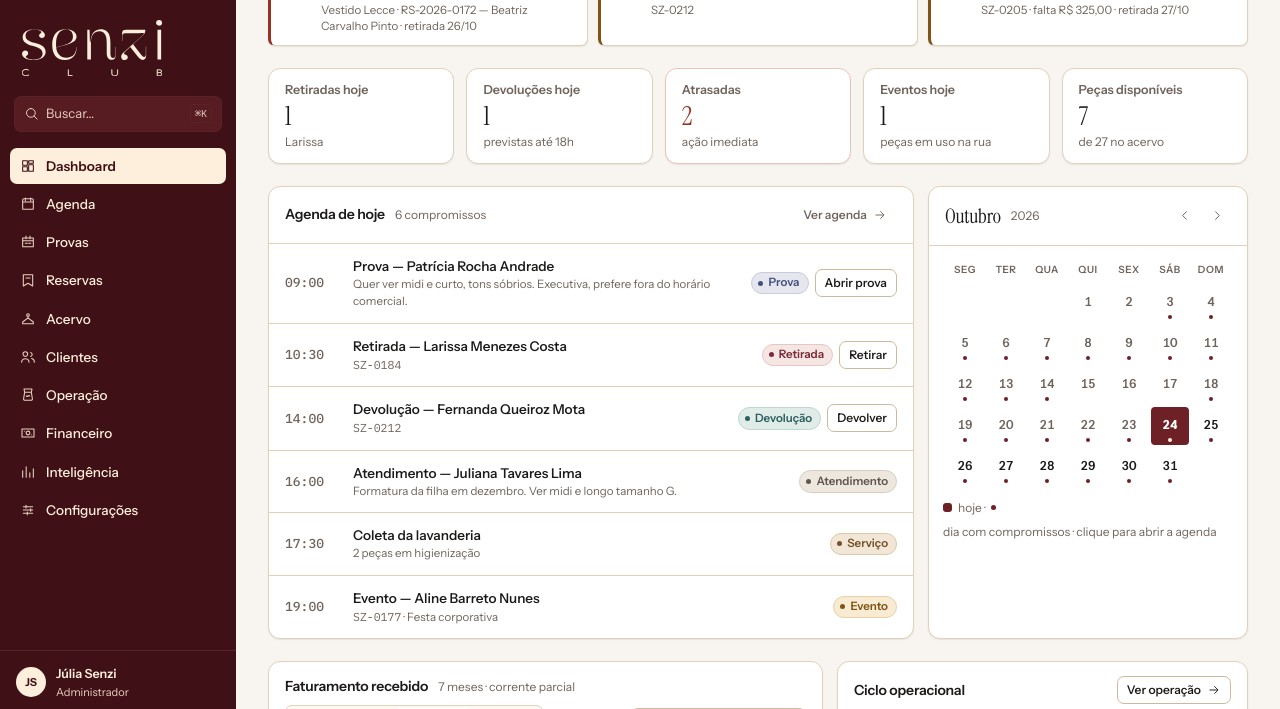
it: Dashboard — agenda de hoje e mini calendário › lista os 6 compromissos de hoje com Retirar, Devolver e Abrir prova
(page scrolled)
Expected: the text "6 compromissos" is shown, 395,206 -> 486,224
Expected: the link "Abrir prova" is shown, 814,269 -> 897,297
Click the button "Retirar". click: (868, 355)
box: 839,341 -> 897,369
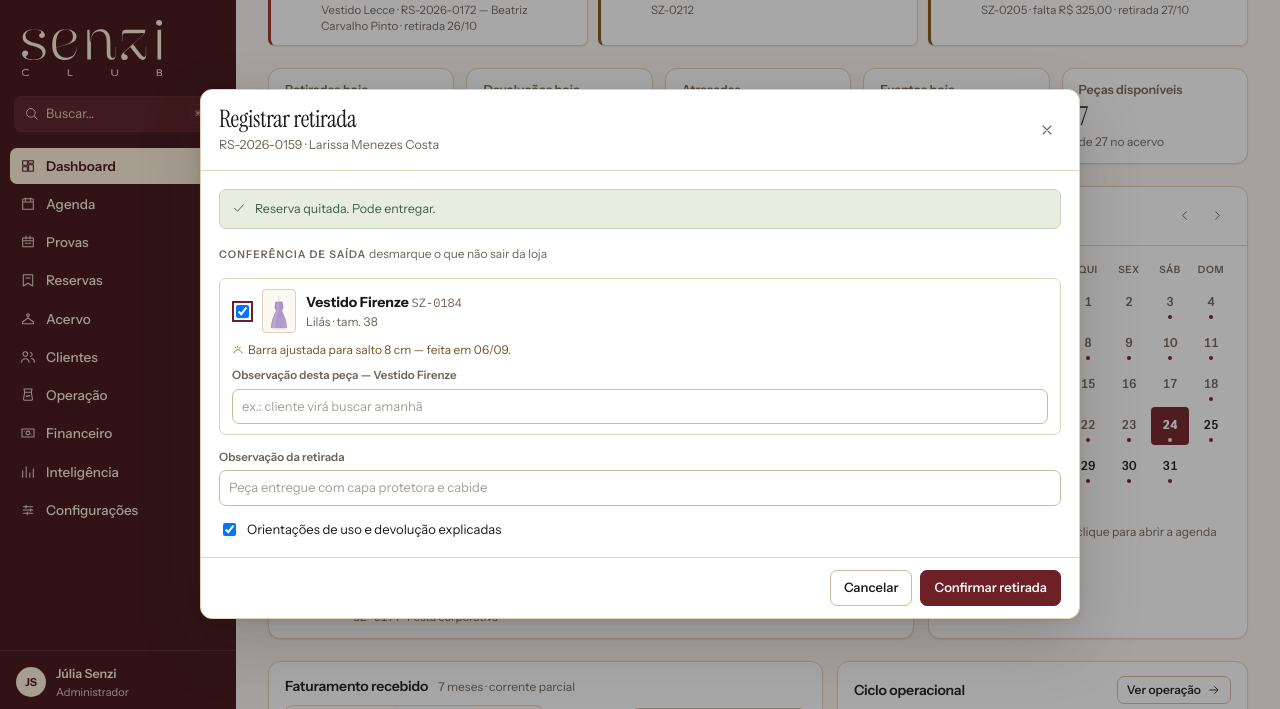
Expected: the dialog "Registrar retirada" is shown, 200,89 -> 1080,619
Click the button "Cancelar". click: (871, 588)
box: 830,570 -> 912,606
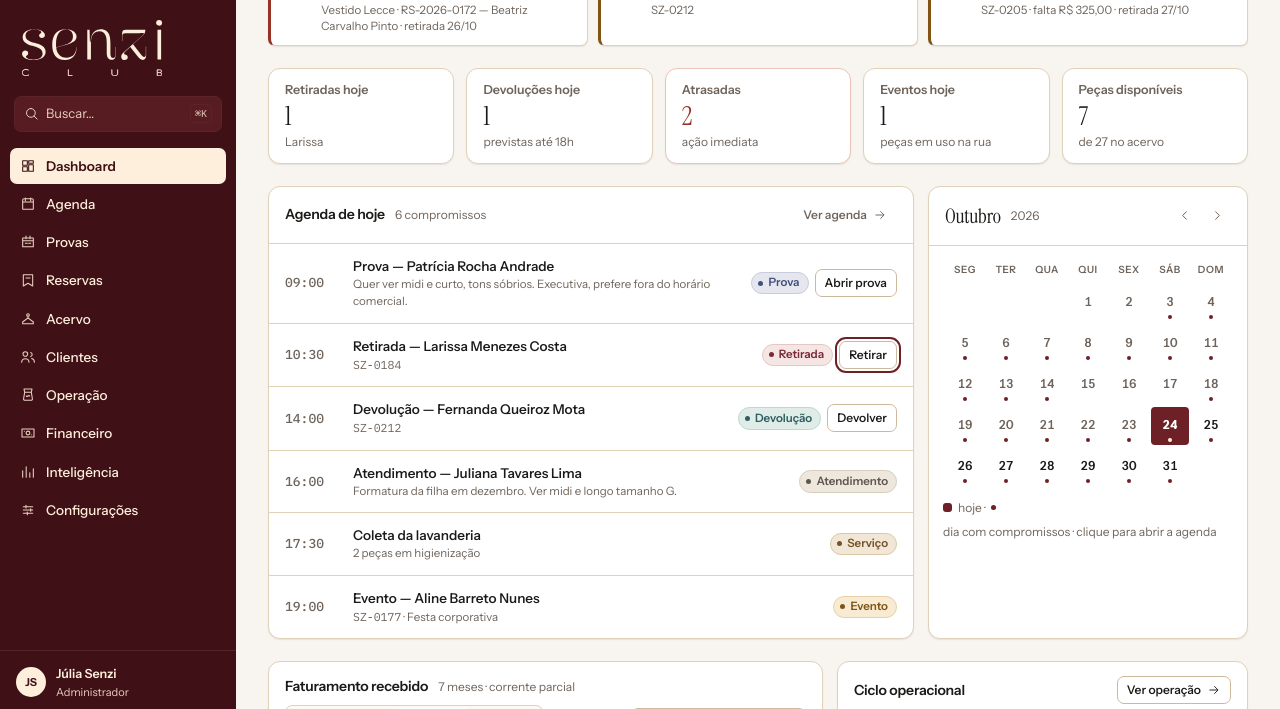
Expected: the dialog is gone
Click the button "Devolver". click: (862, 418)
box: 827,404 -> 897,432
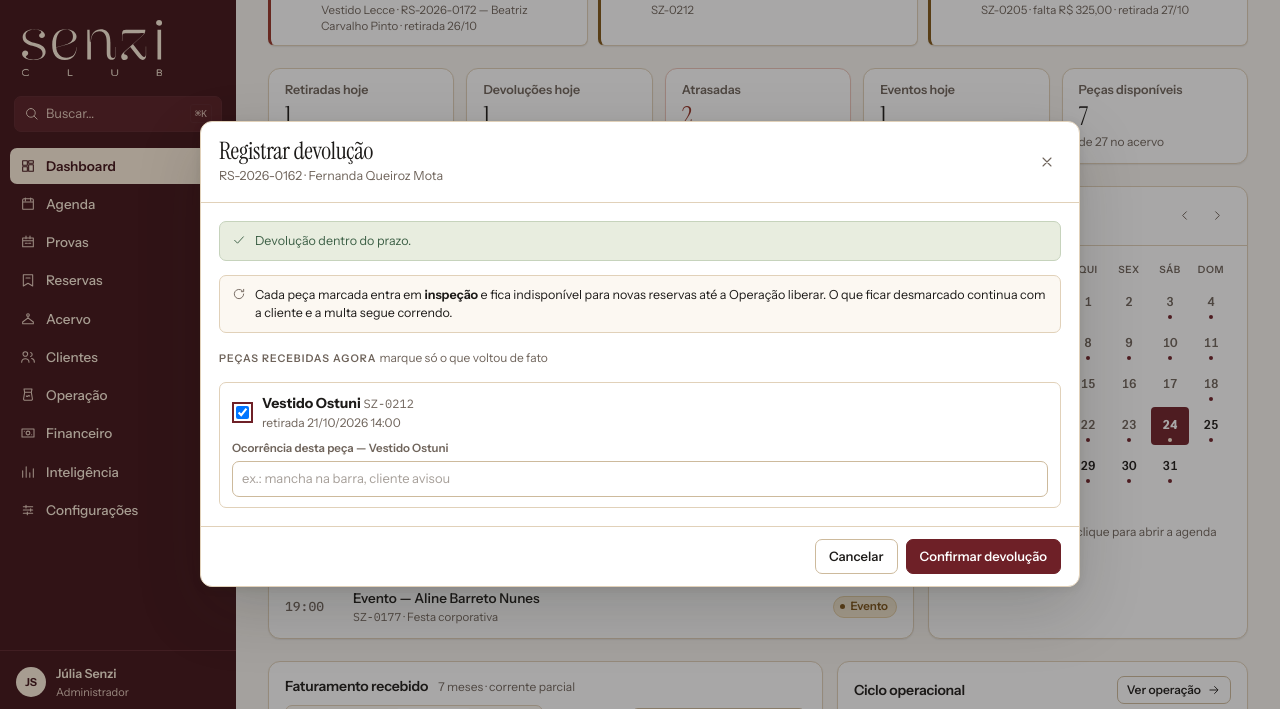
Expected: the dialog "Registrar devolução" is shown, 200,121 -> 1080,587
